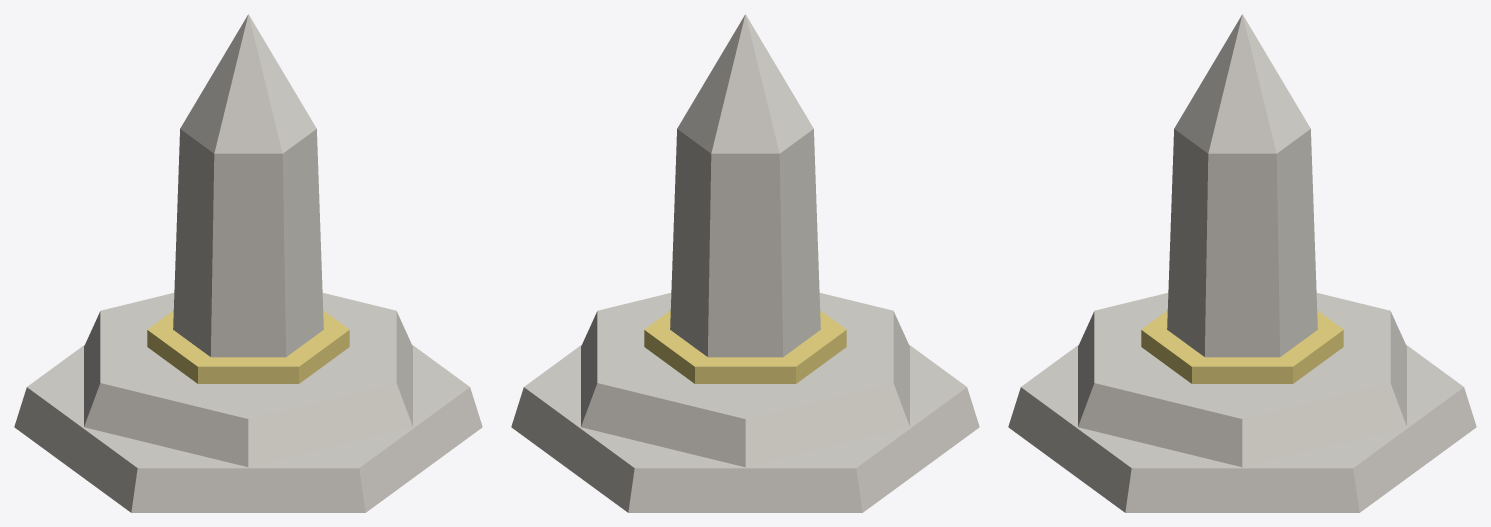
File: Islandia_Peon.fbx
The picture shows the model from 3 angles, left to right: view 1: azimuth 30°, elevation 25°; view 2: azimuth 150°, elevation 25°; view 3: azimuth 270°, elevation 25°; orthographic projection.
Visible parts, largest first — view 1: Islandia_Peon; view 2: Islandia_Peon; view 3: Islandia_Peon.
Part boxes in pixels (x1=…): Islandia_Peon: x1=14, y1=14, x2=482, y2=512; Islandia_Peon: x1=511, y1=14, x2=979, y2=512; Islandia_Peon: x1=1008, y1=14, x2=1476, y2=512.
Bounding box in the file's own units: 0.6409 × 0.72 × 0.74.
